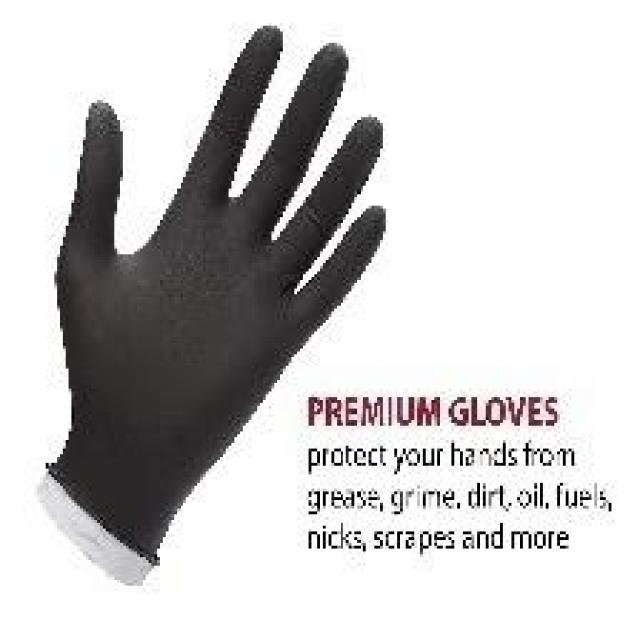Glove: (24, 9, 385, 640)
